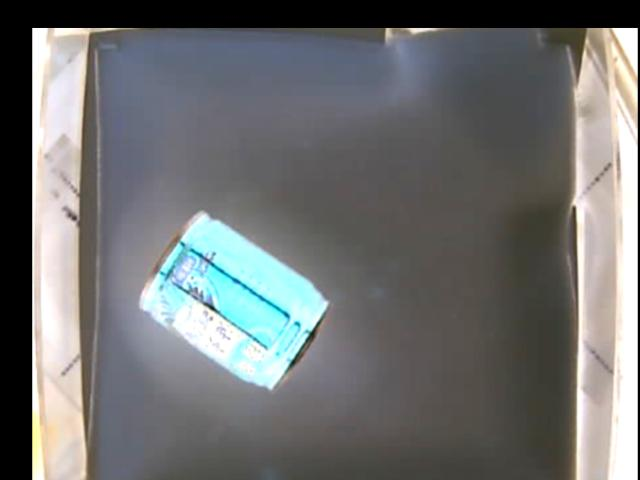Bottle: (136, 211, 333, 390)
